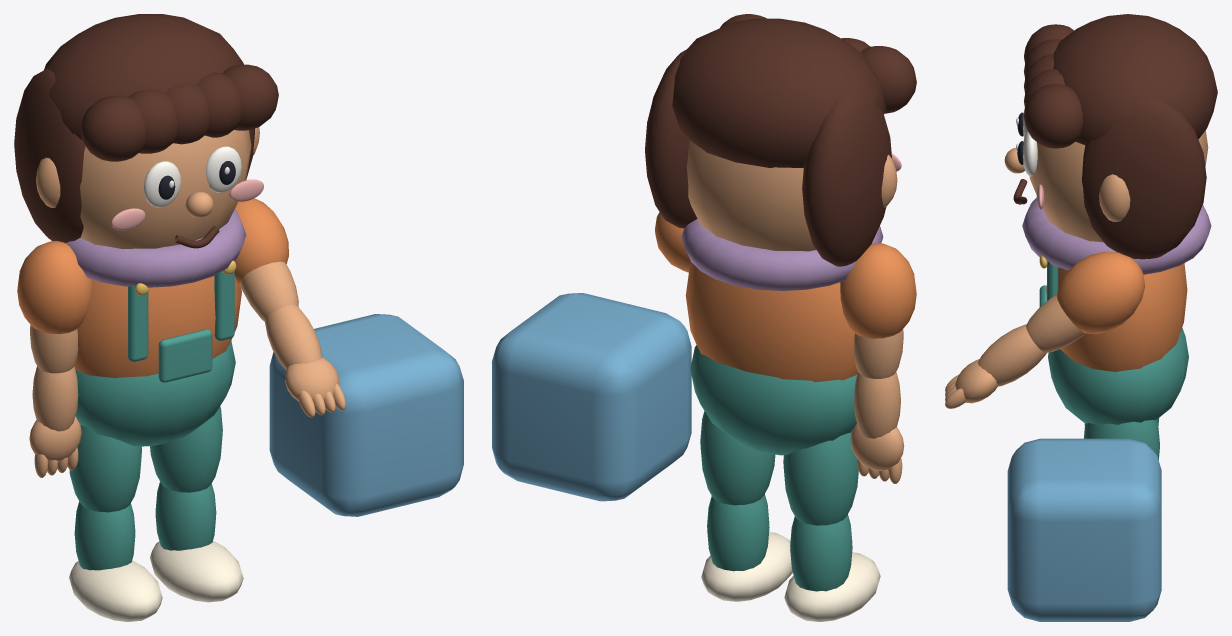
Rendered from ava-need-cold.glb.
3 renders of one model, left to right at view 1: azimuth 30°, elevation 25°; view 2: azimuth 150°, elevation 25°; view 3: azimuth 270°, elevation 25°, orthographic. The views are drawn at different scales.
Parts seen in each view (by area): view 1: ice cube, hair cap, clay head, overalls, soft shirt, bob hair, cozy scarf, shirt sleeve, trouser leg, little shoe.001, little shoe, trouser leg.001 (+20 smaller); view 2: ice cube, hair cap, soft shirt, bob hair, overalls, clay head, cozy scarf, shirt sleeve, trouser leg, bob hair.001, trouser leg.001, lower leg (+9 smaller); view 3: ice cube, bob hair.001, hair cap, overalls, soft shirt, shirt sleeve.001, cozy scarf, clay head, fringe.004, forearm.001, upper arm.001, trouser leg.001 (+8 smaller).
Boxes of the visible parts, x1,y1,x2,y2 form: ice cube: (269, 314, 463, 516); hair cap: (44, 14, 243, 139); clay head: (80, 130, 251, 248); overalls: (75, 341, 235, 446); soft shirt: (74, 276, 241, 378); bob hair: (14, 68, 85, 243); cozy scarf: (51, 209, 246, 287); shirt sleeve: (17, 241, 91, 334); trouser leg: (69, 425, 141, 512); little shoe.001: (150, 540, 243, 602); little shoe: (69, 560, 162, 621); trouser leg.001: (150, 406, 222, 492); ice cube: (492, 293, 691, 501); hair cap: (672, 18, 885, 168); soft shirt: (685, 261, 857, 382); bob hair: (802, 91, 891, 266); overalls: (690, 345, 856, 455); clay head: (686, 140, 816, 251); cozy scarf: (681, 219, 883, 290); shirt sleeve: (840, 243, 916, 338); trouser leg: (783, 430, 858, 525); bob hair.001: (645, 49, 697, 228); trouser leg.001: (700, 411, 775, 505); lower leg: (790, 514, 852, 591); ice cube: (1007, 438, 1161, 621); bob hair.001: (1082, 99, 1206, 259); hair cap: (1053, 14, 1217, 145); overalls: (1048, 328, 1188, 424); soft shirt: (1046, 263, 1187, 371); shirt sleeve.001: (1056, 251, 1144, 333); cozy scarf: (1022, 198, 1211, 274); clay head: (1029, 130, 1208, 242); fringe.004: (1024, 84, 1082, 148); forearm.001: (978, 324, 1046, 386); upper arm.001: (1026, 294, 1085, 352); trouser leg.001: (1084, 420, 1159, 459).
Bounding box in the file's own units: 1.37 × 1.87 × 0.8504.
